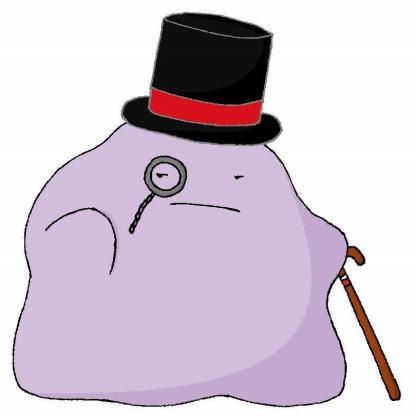Ditto: (17, 26, 416, 416)
